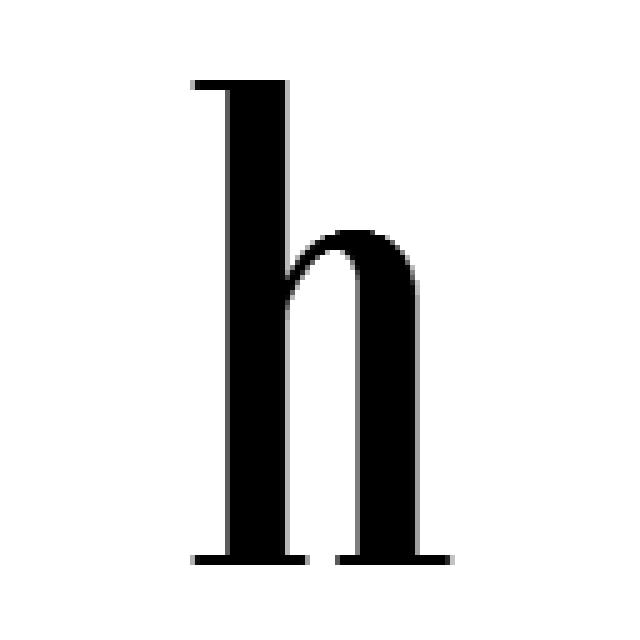H: (195, 80, 440, 565)
